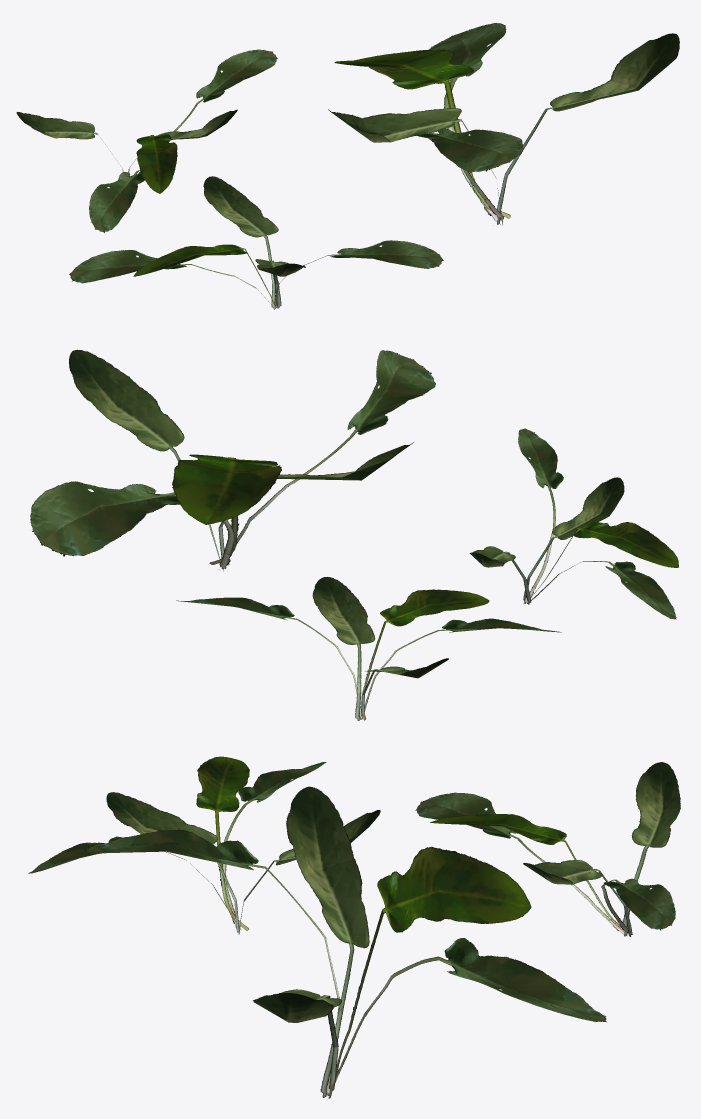
The model's file is Chicory_LOD0.fbx.
3 renders of one model, top to bottom at view 1: azimuth 30°, elevation 25°; view 2: azimuth 150°, elevation 25°; view 3: azimuth 270°, elevation 25°, orthographic. The views are drawn at different scales.
Visible parts, largest first — view 1: Chicory:LOD0; view 2: Chicory:LOD0; view 3: Chicory:LOD0.
Boxes of the visible parts, box(x1,y1,x2,y2) form: Chicory:LOD0: box(16, 23, 679, 309); Chicory:LOD0: box(30, 349, 678, 720); Chicory:LOD0: box(28, 756, 680, 1098).
Size of the model in its own units: 0.6253 by 0.17 by 0.4817.
